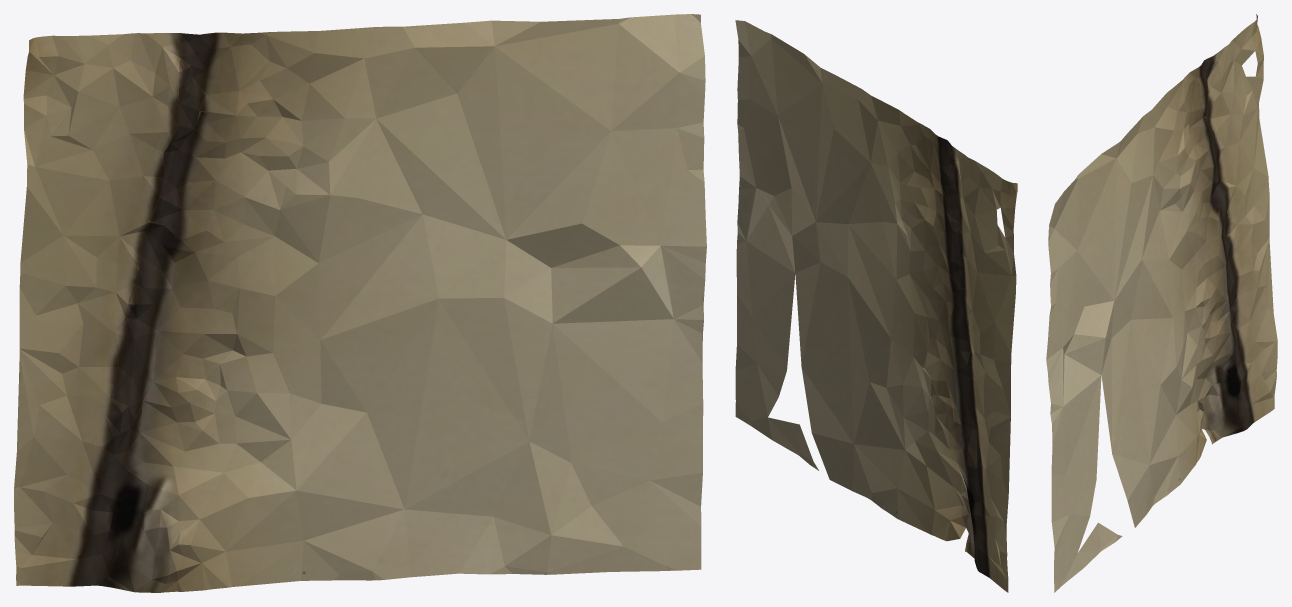
The picture shows the model from 3 angles, left to right: view 1: azimuth 30°, elevation 25°; view 2: azimuth 150°, elevation 25°; view 3: azimuth 270°, elevation 25°; orthographic projection. The views are drawn at different scales.
Size of the model in its own units: 1.67 by 1.67 by 0.89.
Materials: 3 (3 with a texture image).
